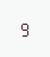nine: (19, 19, 28, 37)
